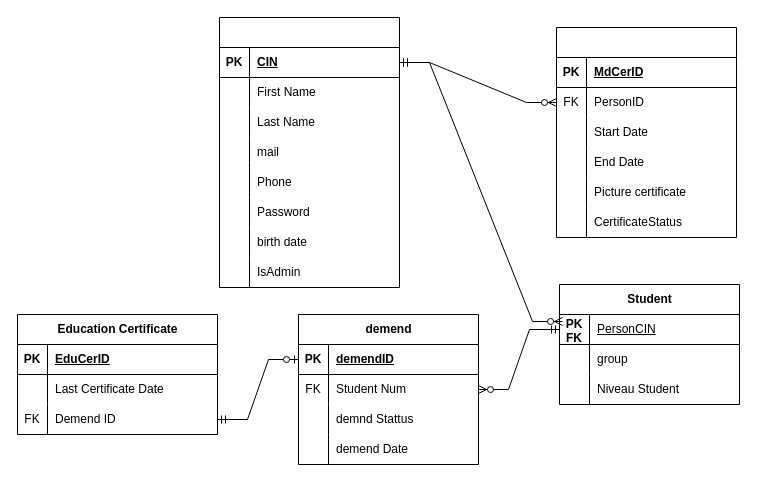
Some shapes in this 757 by 482 pixel diagram are drawn without their labels. The box of each missing label's shape, as (x1, y1, x2, y2) in pixels:
Certificate Medical: (556, 26, 736, 238)
Person: (218, 16, 400, 288)
